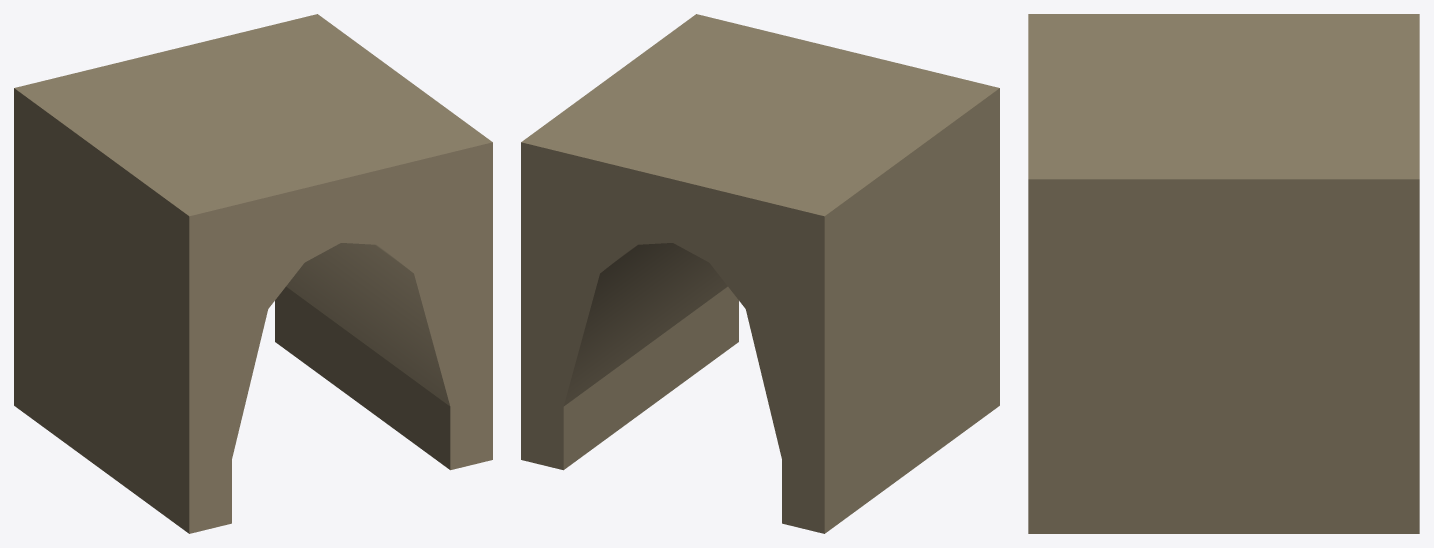
Rendered from SM_Prop_bridge_arch_1_LOD2.glb.
The picture shows the model from 3 angles, left to right: view 1: azimuth 30°, elevation 25°; view 2: azimuth 150°, elevation 25°; view 3: azimuth 270°, elevation 25°; orthographic projection. The views are drawn at different scales.
Visible parts, largest first — view 1: SM_Prop_bridge_arch_1_LOD2; view 2: SM_Prop_bridge_arch_1_LOD2; view 3: SM_Prop_bridge_arch_1_LOD2.
Part boxes in pixels (x1,y1,x2,y2): SM_Prop_bridge_arch_1_LOD2: [14, 14, 492, 533]; SM_Prop_bridge_arch_1_LOD2: [521, 14, 999, 533]; SM_Prop_bridge_arch_1_LOD2: [1028, 14, 1419, 533].
Bounding box in the file's own units: 1 × 1 × 1.
